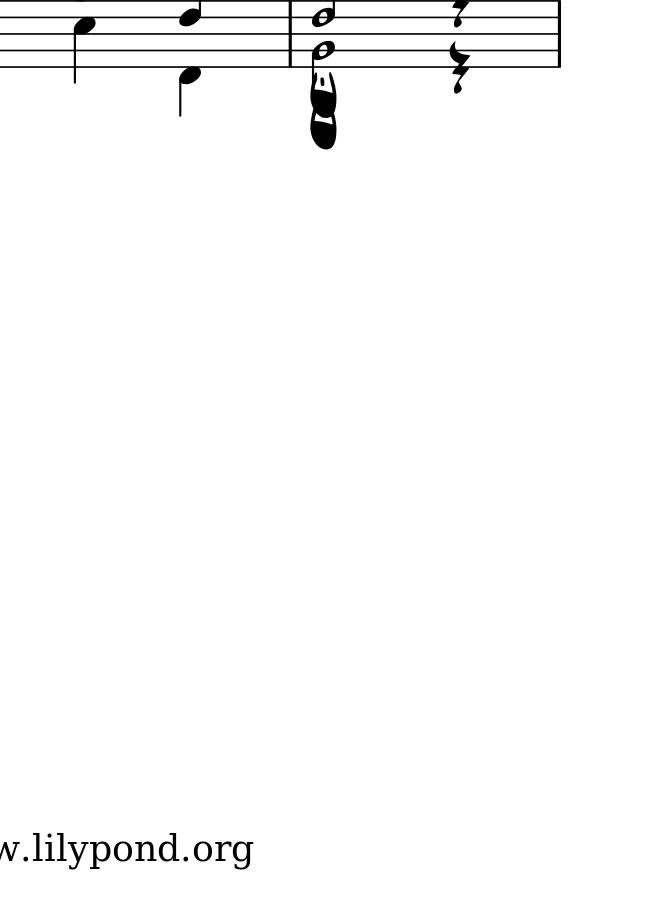4_5: (71, 1, 99, 83)
Rests4: (448, 39, 473, 96)
Single_barline: (550, 1, 567, 69), (281, 2, 298, 65)
